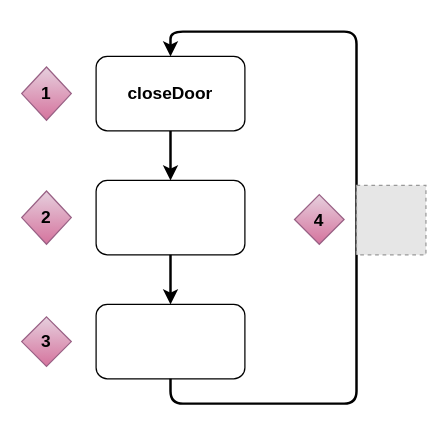
The diagram is 448 pixels wide and 435 high, and some of its shapes have lost their labels. Grey dashed boxes stand in for pictures. The box of each missing label's shape, as (x1, y1, x2, y2) in pixels:
openDoor: (95, 303, 245, 379)
pressIn: (95, 179, 245, 255)
